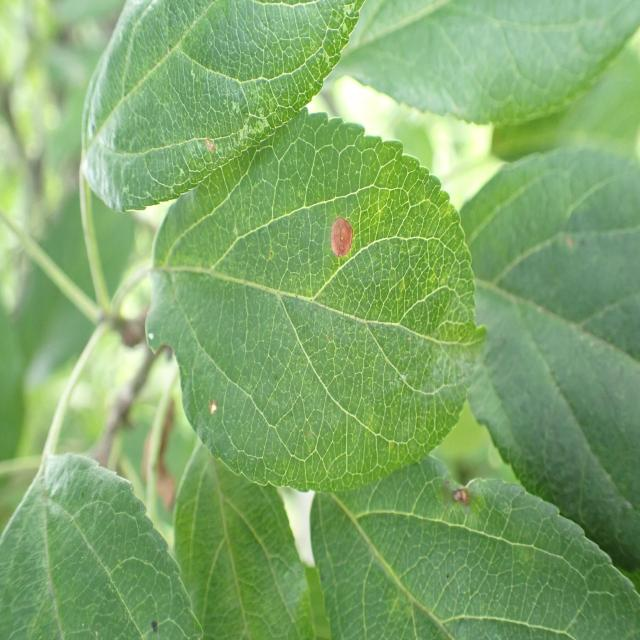frog-eye-leaf-spot: (143, 110, 491, 500), (80, 2, 366, 215)
